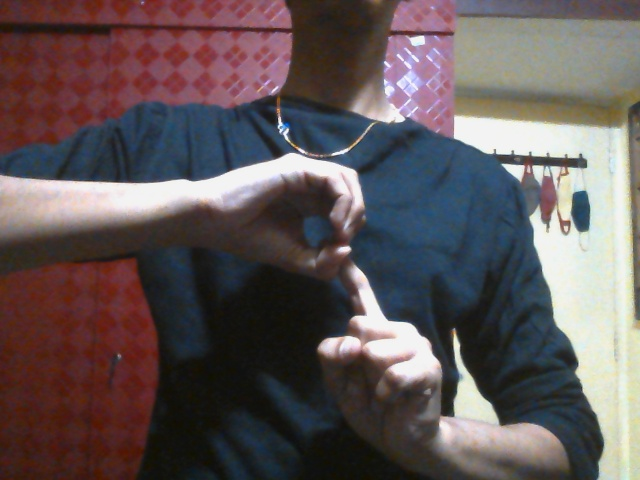Q: (204, 151, 443, 460)
